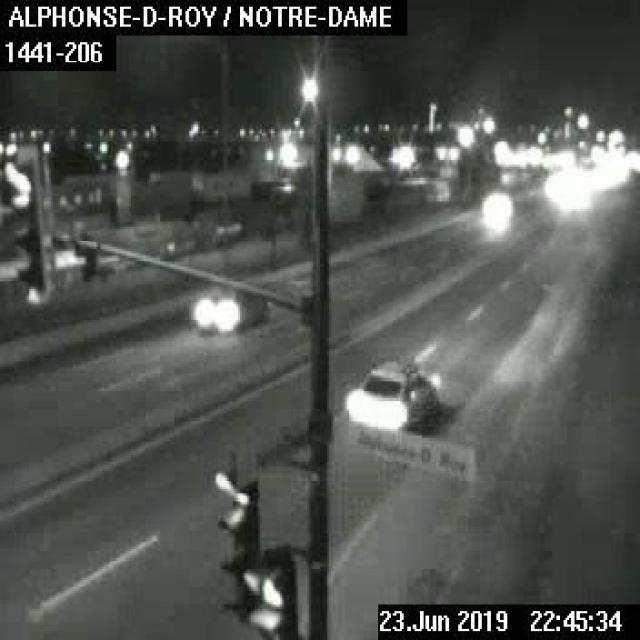vehicle: (344, 351, 438, 429), (191, 284, 269, 334)
